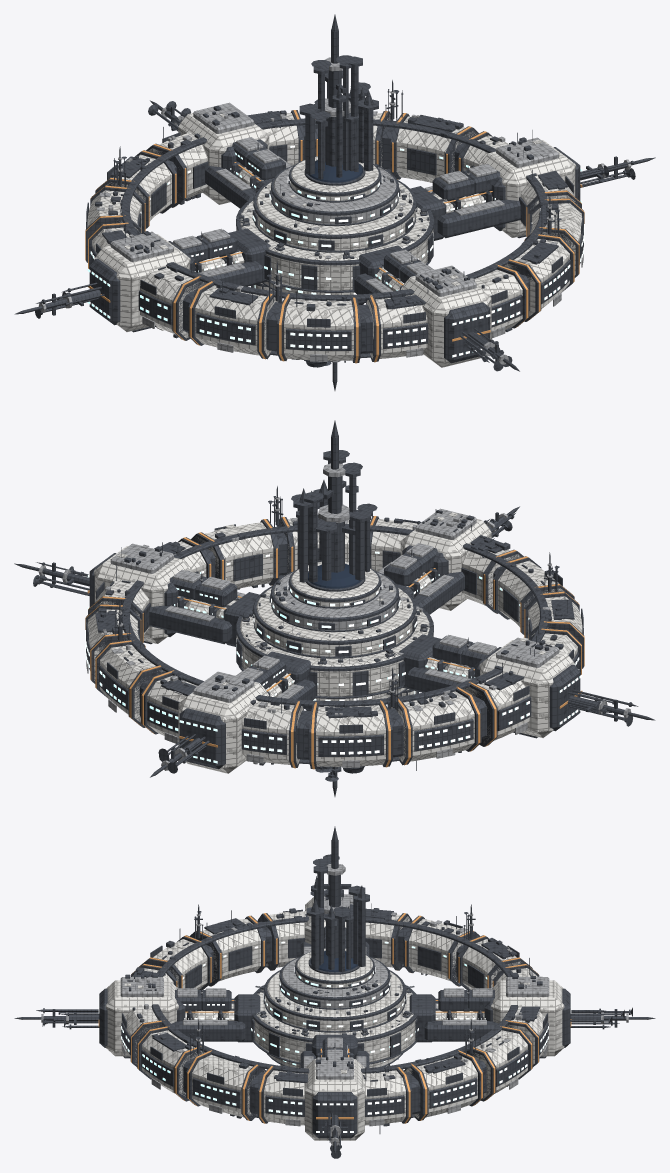
The model's file is aur-ark-carrier.fbx.
3 renders of one model, top to bottom at view 1: azimuth 30°, elevation 25°; view 2: azimuth 150°, elevation 25°; view 3: azimuth 270°, elevation 25°, orthographic. The views are drawn at different scales.
Parts seen in each view (by area): view 1: Hull_Dark, Hull_White, Hull_Grey, Livery, Windows, Glass; view 2: Hull_Dark, Hull_White, Hull_Grey, Livery, Windows, Glass; view 3: Hull_Dark, Hull_White, Hull_Grey, Livery, Windows.
Part boxes in pixels (x1,y1,x2,y2): Hull_Dark: (14, 14, 655, 390); Hull_White: (87, 113, 582, 367); Hull_Grey: (39, 57, 631, 364); Livery: (85, 110, 584, 363); Windows: (85, 145, 584, 357); Glass: (308, 160, 363, 182); Hull_Dark: (14, 420, 655, 796); Hull_White: (87, 512, 582, 773); Hull_Grey: (38, 463, 630, 770); Livery: (85, 516, 584, 769); Windows: (85, 551, 584, 763); Glass: (308, 564, 361, 588); Hull_Dark: (14, 826, 655, 1158); Hull_White: (105, 897, 564, 1140); Hull_Grey: (41, 864, 628, 1145); Livery: (98, 913, 571, 1123); Windows: (98, 941, 571, 1132).
Size of the model in its own units: 2532 by 1423 by 2532.
7 materials, 3 textured.
